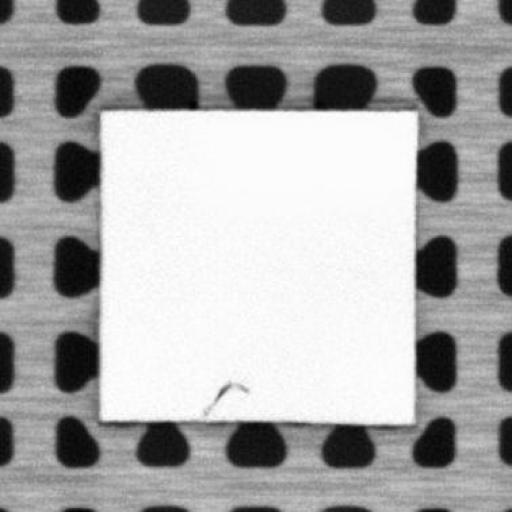DIE_INK: (199, 378, 248, 415)
